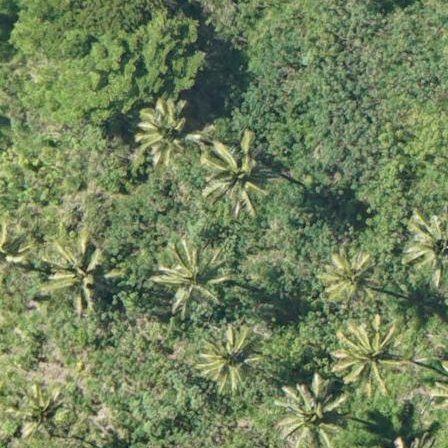palm_tree: (150, 237, 231, 319), (199, 131, 277, 215), (326, 316, 403, 398), (270, 375, 342, 448), (131, 95, 199, 168), (198, 319, 263, 389), (50, 236, 111, 301), (317, 243, 375, 306), (403, 209, 448, 275), (8, 389, 64, 437)
